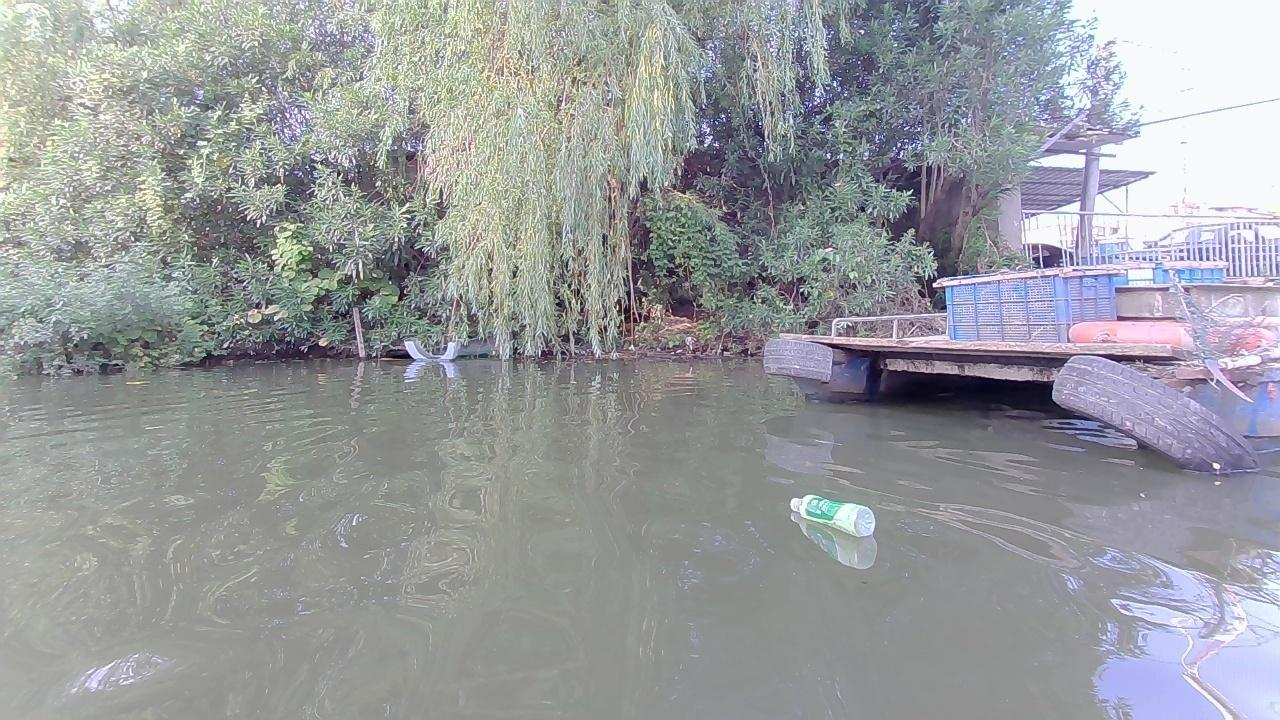bottle: (787, 488, 878, 538)
